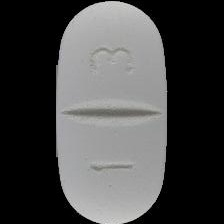31722-406: (0, 0, 224, 224)
